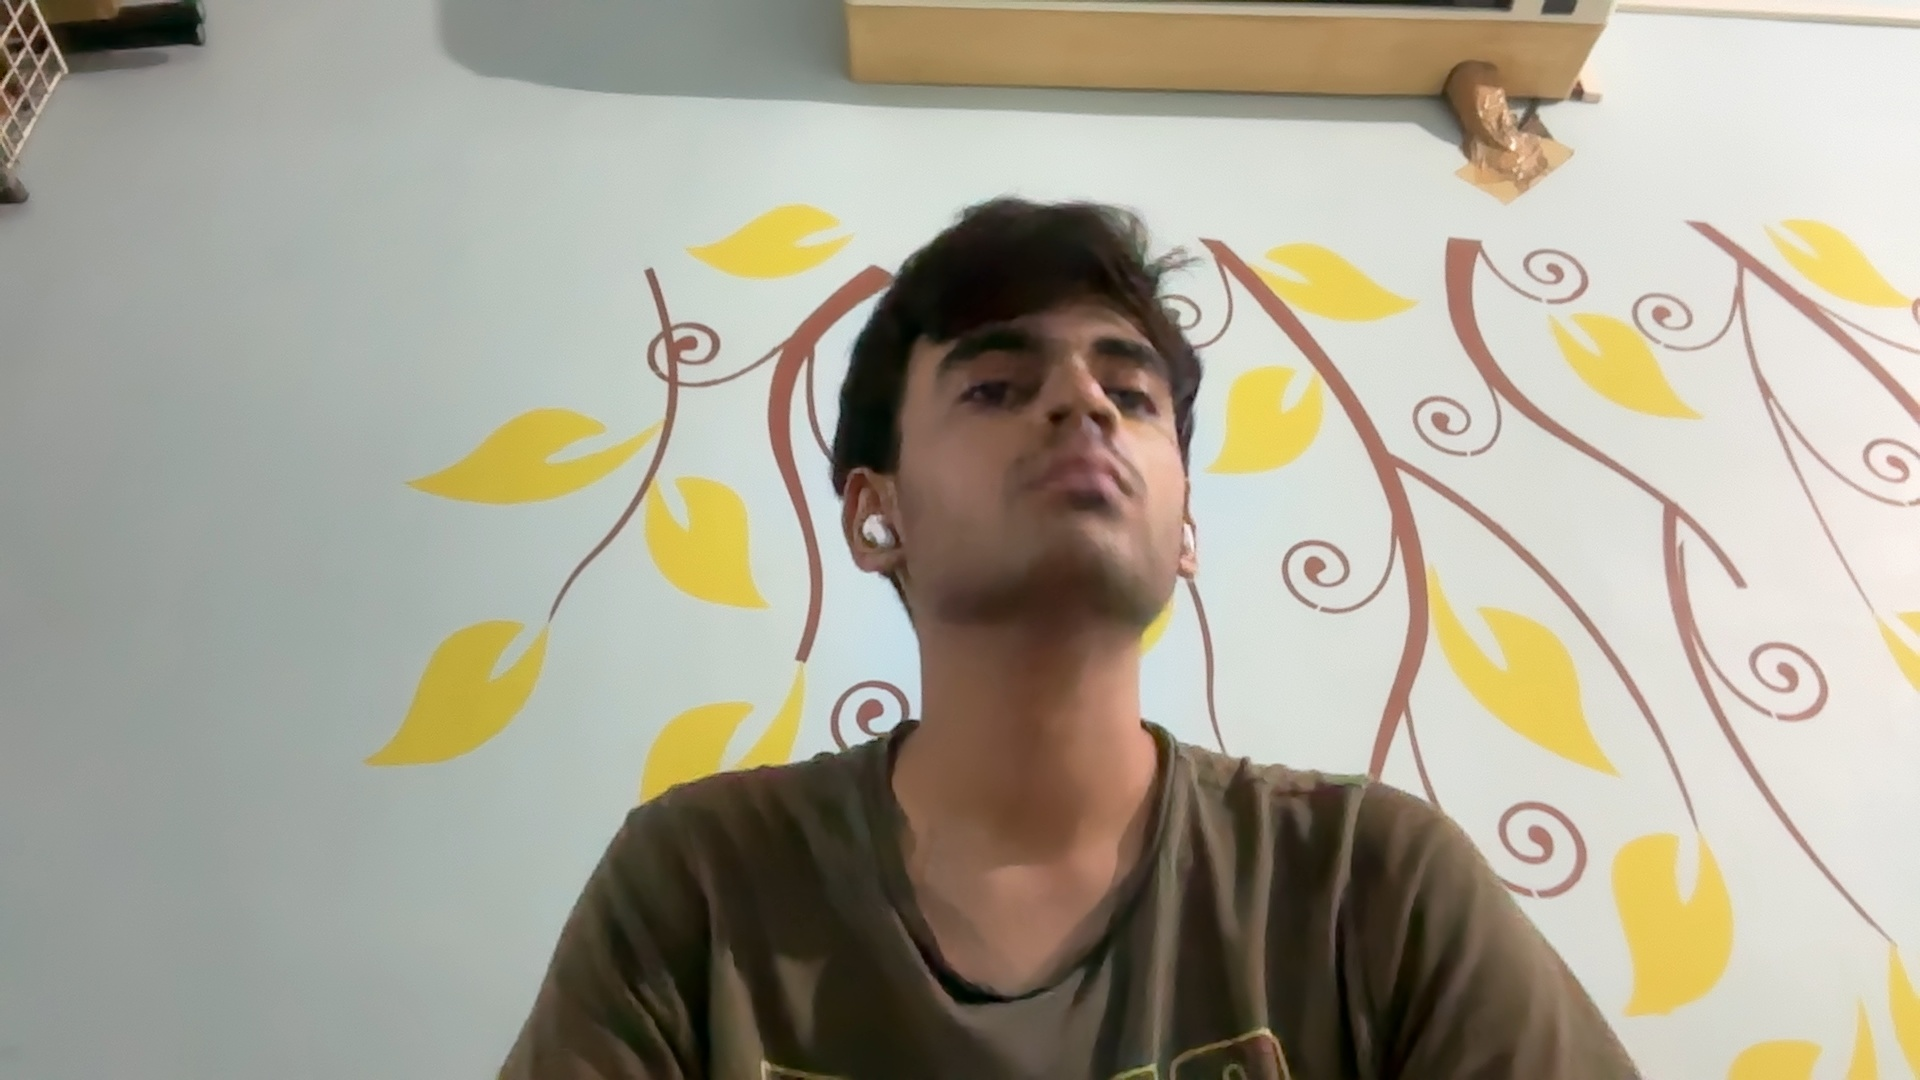No Mask: (953, 394, 1184, 647)
